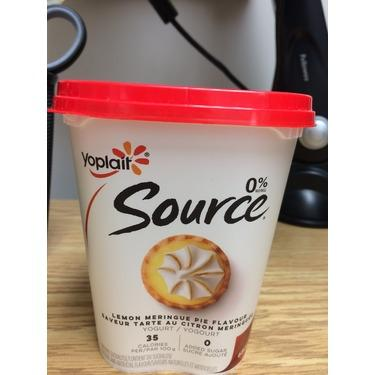plastic: (51, 80, 314, 374)
